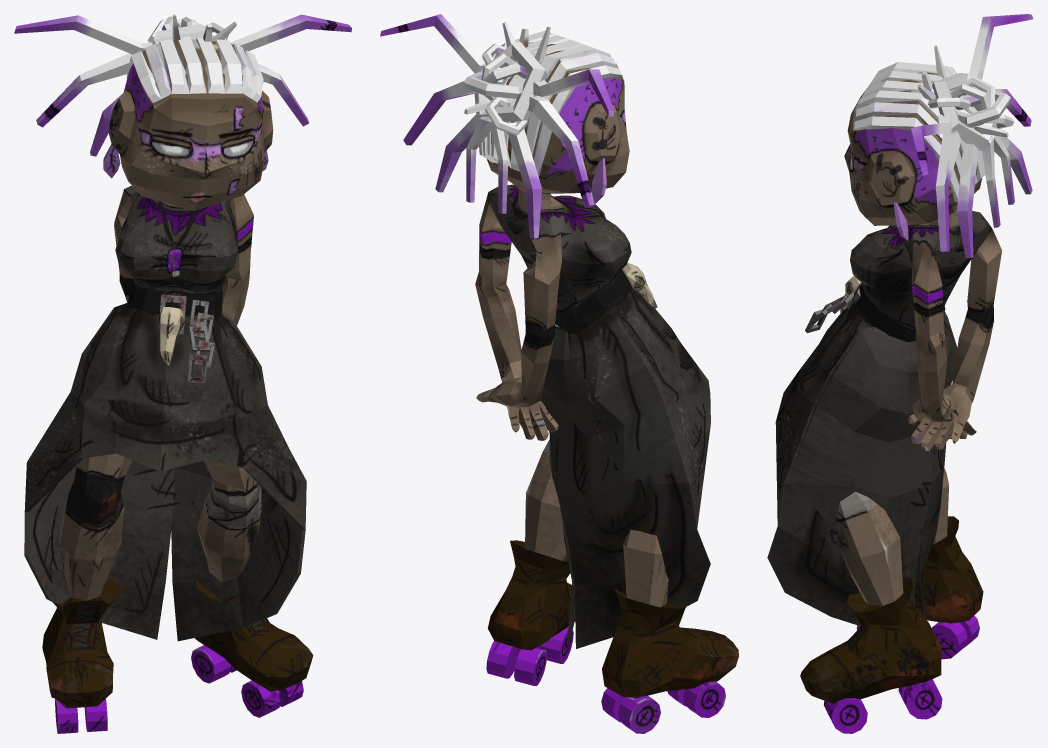
Rendered from bruja_000049.obj.
3 renders of one model, left to right at view 1: azimuth 30°, elevation 25°; view 2: azimuth 150°, elevation 25°; view 3: azimuth 270°, elevation 25°, orthographic. The views are drawn at different scales.
Visible parts, largest first — view 1: Bruja_Plane.001; view 2: Bruja_Plane.001; view 3: Bruja_Plane.001.
Boxes of the visible parts, x1,y1,x2,y2 form: Bruja_Plane.001: (14, 14, 351, 733); Bruja_Plane.001: (380, 14, 738, 733); Bruja_Plane.001: (767, 14, 1033, 733).
Size of the model in its own units: 8.15 by 16.08 by 5.9.
